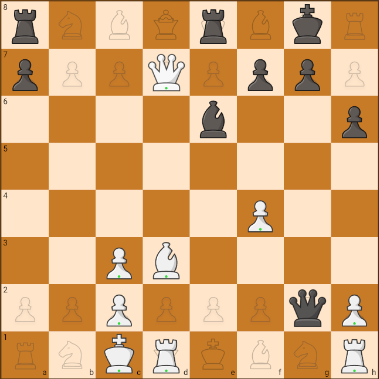bb: (196, 99, 230, 140)
bk: (285, 2, 330, 48)
bp: (2, 52, 44, 93), (290, 52, 328, 94), (336, 101, 374, 141), (242, 54, 279, 93)
bq: (288, 286, 326, 327)
br: (194, 3, 234, 47), (5, 4, 44, 47)
wb: (147, 239, 185, 281)
wk: (95, 332, 140, 375)
wp: (240, 193, 279, 234), (99, 242, 137, 280), (101, 291, 138, 330), (339, 290, 371, 329)
wq: (144, 50, 187, 94)
wr: (335, 336, 375, 375), (149, 338, 185, 375)
